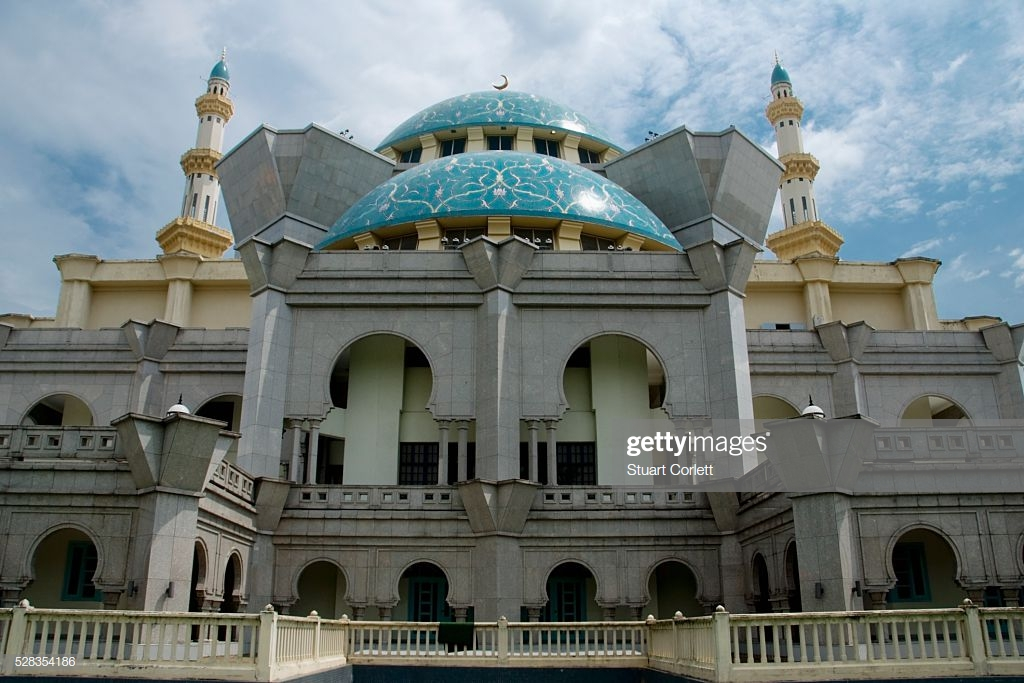Mosque: (14, 49, 957, 628)
